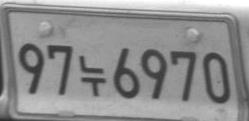0: (201, 51, 230, 103)
6: (112, 47, 140, 98)
7: (47, 44, 73, 95), (170, 50, 196, 101)
9: (18, 42, 45, 94), (141, 48, 168, 100)
누: (78, 54, 106, 97)
